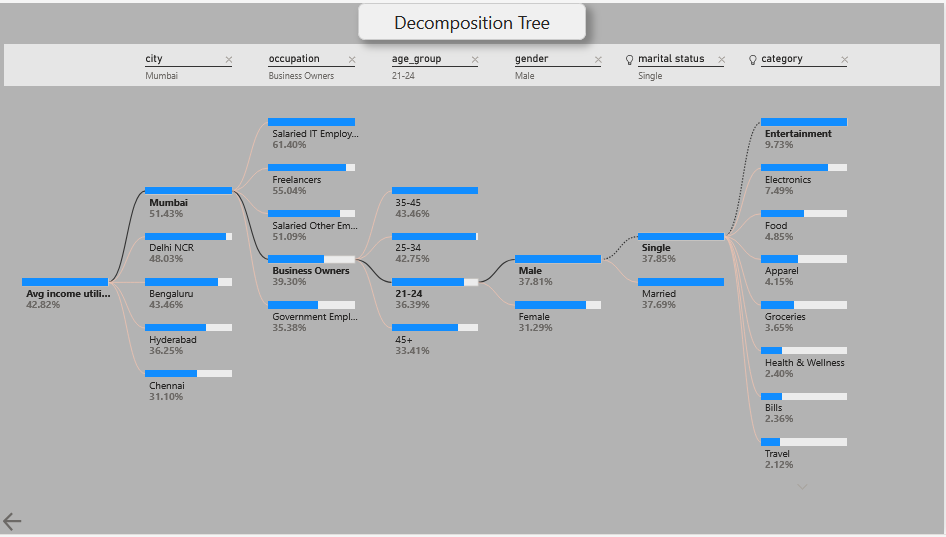

The dashboard page shown, as its layout file describes it:
{"tool":"powerbi","page":{"name":"Decompostion Tree","canvas":[1280,720],"ordinal":6},"visuals":[{"type":"decompositionTreeVisual","title":"Tree Chart","fields":{"Analyze":["fact_spends.Avg income utilization"],"ExplainBy":["dim_customers.city","dim_customers.occupation","dim_customers.age_group","dim_customers.gender","dim_customers.marital status","fact_spends.category"]},"box":[0,49.6,1279.8,636.4],"z":0},{"type":"actionButton","box":[0,685.6,42.2,34.4],"z":1000},{"type":"textbox","box":[485.5,0,309,49.6],"z":2000}]}

Visuals, with their boxes in screenshot pixels (x1, y1, x2, y2), scaled from the page's 1280x720 canvas onto the 946x537 screenshot:
"Tree Chart" decompositionTreeVisual: {"left": 0, "top": 37, "right": 945, "bottom": 512}
actionButton: {"left": 0, "top": 511, "right": 31, "bottom": 536}
textbox: {"left": 359, "top": 0, "right": 587, "bottom": 37}
